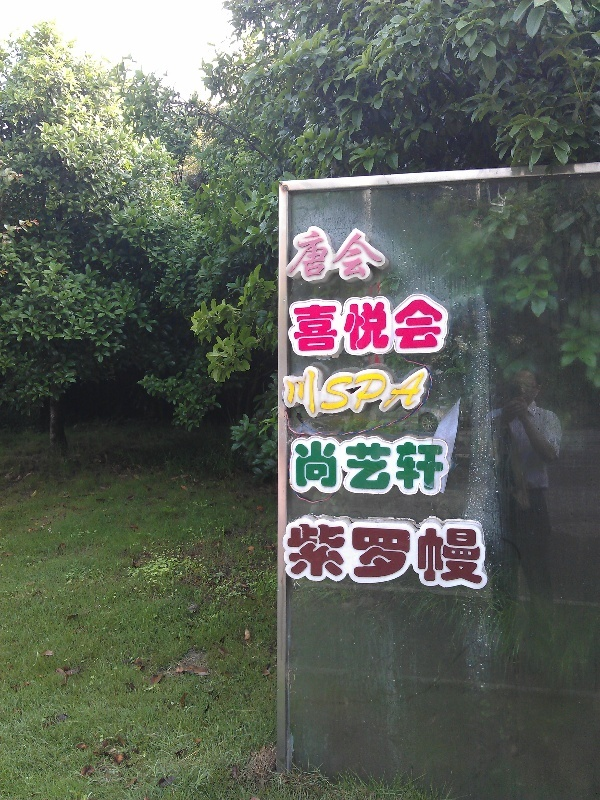text: (289, 515, 304, 587), (305, 515, 320, 587), (321, 515, 336, 587), (337, 515, 352, 587), (353, 515, 368, 587), (369, 515, 384, 587), (385, 515, 400, 587), (401, 515, 416, 587), (417, 515, 432, 587), (433, 515, 448, 587), (449, 515, 464, 587), (465, 515, 480, 587), (289, 296, 304, 356), (305, 296, 320, 356), (321, 296, 336, 356), (337, 296, 352, 356), (353, 296, 368, 356), (369, 296, 384, 356), (385, 296, 400, 356), (401, 296, 416, 356), (417, 296, 432, 356), (433, 296, 448, 356), (289, 437, 304, 496), (305, 437, 320, 496), (321, 437, 336, 496), (337, 437, 352, 496), (353, 437, 368, 496), (369, 437, 384, 496), (385, 437, 400, 496), (401, 437, 416, 496), (417, 437, 432, 496), (289, 227, 304, 283), (305, 227, 320, 283), (321, 227, 336, 283), (337, 227, 352, 283), (353, 227, 368, 283), (369, 227, 384, 283), (433, 437, 447, 496), (289, 366, 304, 417), (305, 366, 320, 417), (321, 366, 336, 417), (337, 366, 352, 417), (353, 366, 368, 417), (369, 366, 384, 417), (385, 366, 400, 417), (401, 366, 416, 417), (481, 515, 490, 587), (417, 366, 427, 417), (283, 366, 288, 417), (286, 227, 288, 283), (287, 515, 288, 587), (385, 227, 386, 283)
